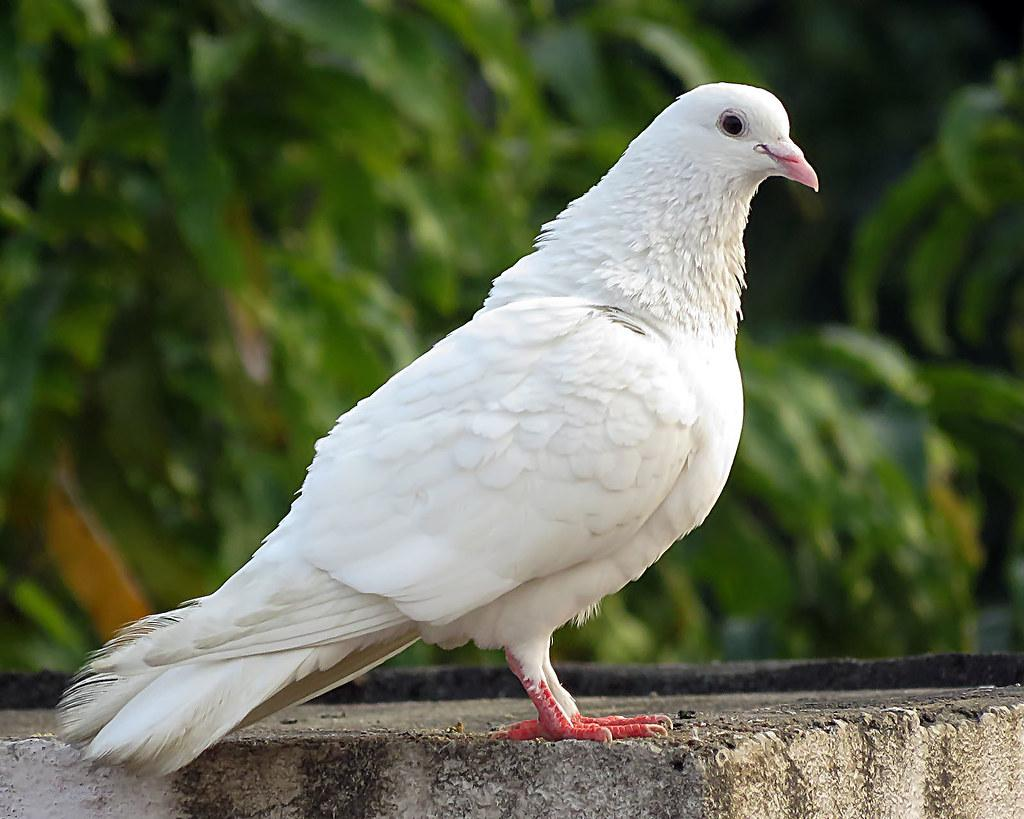Flying Rat: (74, 81, 816, 768)
